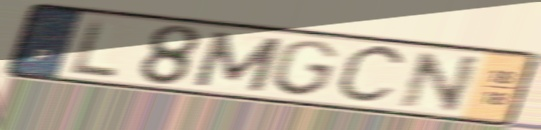8: (137, 22, 204, 87)
C: (331, 42, 411, 108)
G: (267, 38, 342, 99)
L: (69, 15, 121, 80)
M: (188, 28, 288, 94)
N: (397, 49, 485, 115)
